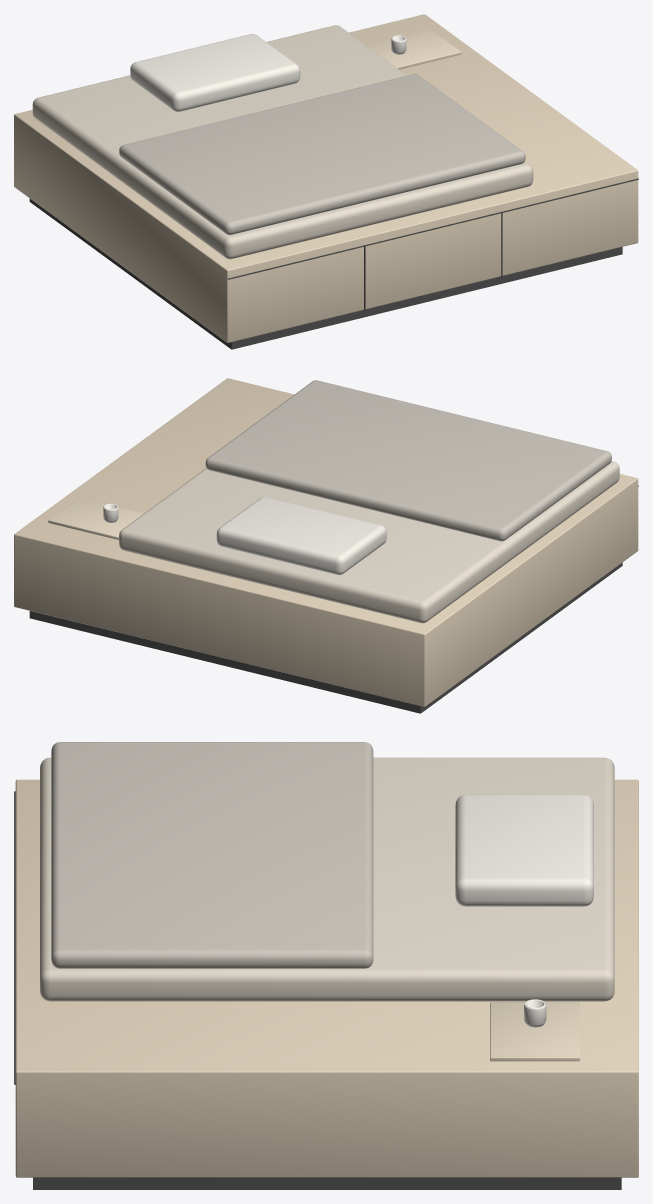
The model's file is mo_platform.glb.
The picture shows the model from 3 angles, top to bottom: view 1: azimuth 30°, elevation 25°; view 2: azimuth 150°, elevation 25°; view 3: azimuth 270°, elevation 25°; orthographic projection. The views are drawn at different scales.
Parts seen in each view (by area): view 1: body, duvet, mattress, pillow, plinth, tray, line; view 2: body, duvet, mattress, pillow, plinth, tray; view 3: body, duvet, mattress, pillow, plinth, tray.
Part boxes in pixels (box(x1,y1,x2,y2)): body: box(14, 14, 638, 342); duvet: box(119, 74, 525, 234); mattress: box(32, 25, 533, 259); pillow: box(130, 33, 300, 111); plinth: box(29, 198, 622, 349); tray: box(366, 29, 461, 69); line: box(228, 178, 638, 279); body: box(14, 378, 638, 706); duvet: box(205, 380, 611, 541); mattress: box(119, 461, 619, 623); pillow: box(216, 497, 386, 574); plinth: box(29, 562, 622, 713); tray: box(48, 497, 143, 539); body: box(15, 779, 638, 1177); duvet: box(51, 742, 373, 968); mattress: box(40, 757, 614, 1001); pillow: box(455, 794, 593, 906); plinth: box(33, 1177, 621, 1189); tray: box(490, 1002, 579, 1061).
Size of the model in its own units: 2 by 0.585 by 1.8.
